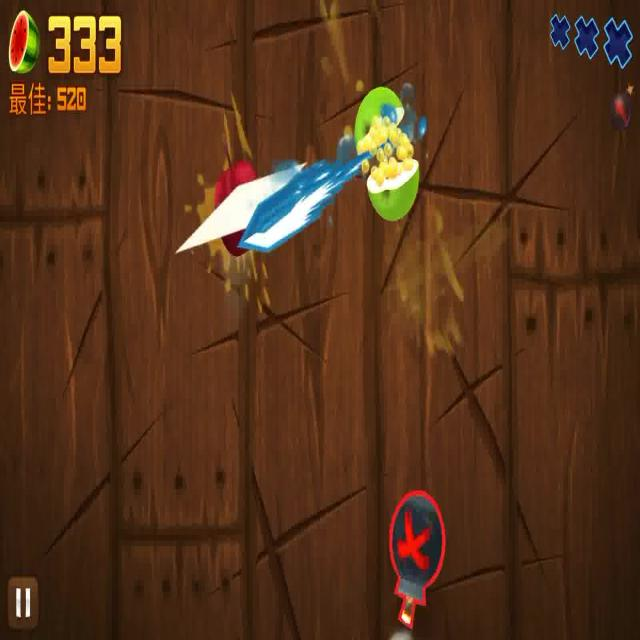bomb: (383, 487, 445, 638)
fruit: (212, 163, 260, 254), (362, 159, 423, 218), (353, 85, 400, 152)
